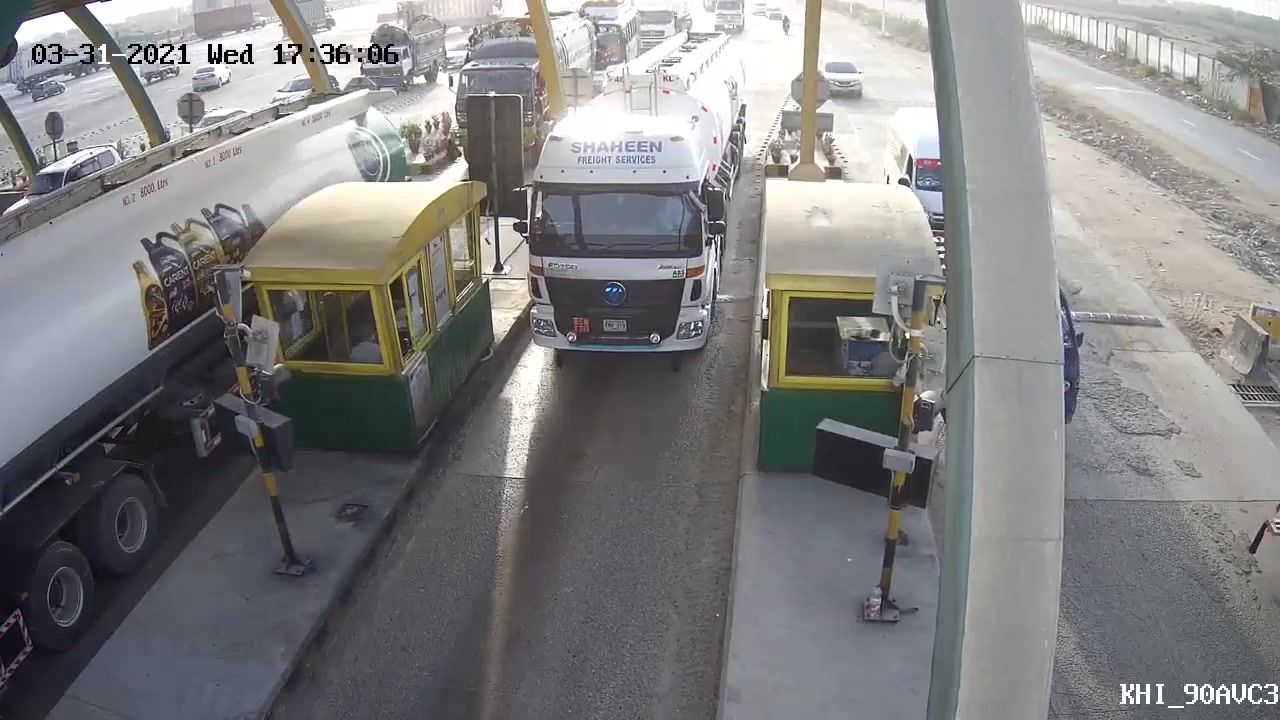F5: (499, 78, 751, 390)
